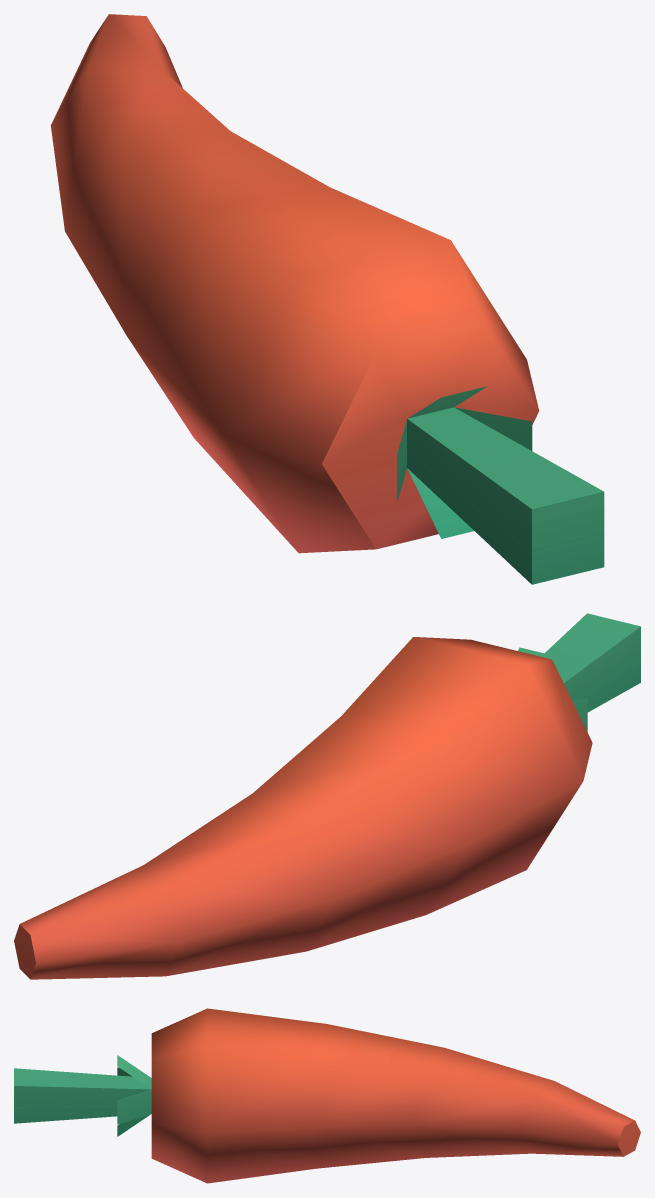
Rendered from chilli.glb.
3 renders of one model, top to bottom at view 1: azimuth 30°, elevation 25°; view 2: azimuth 150°, elevation 25°; view 3: azimuth 270°, elevation 25°, orthographic. The views are drawn at different scales.
Visible parts, largest first — view 1: pepper; view 2: pepper; view 3: pepper.
Part boxes in pixels (bbox=[...]): pepper: bbox=[50, 14, 604, 584]; pepper: bbox=[14, 613, 640, 979]; pepper: bbox=[14, 1008, 640, 1183].
Bounding box in the file's own units: 0.0391 × 0.0291 × 0.12.
1 material, 1 textured.
